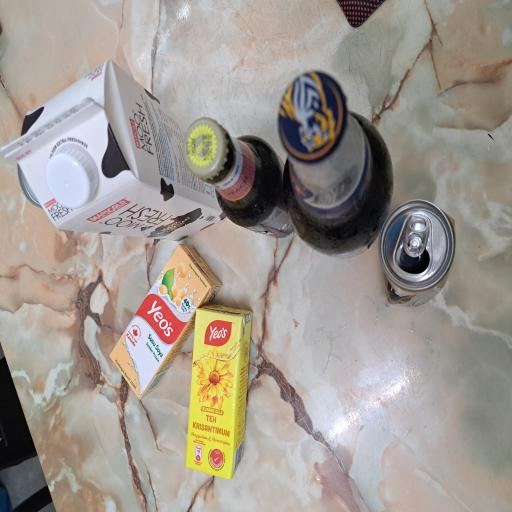drink carton: (203, 1, 341, 303), (84, 145, 202, 297), (26, 248, 156, 336)
glass bottle: (190, 369, 334, 512), (205, 244, 296, 398)
plastic bottle cap: (227, 61, 277, 131)
